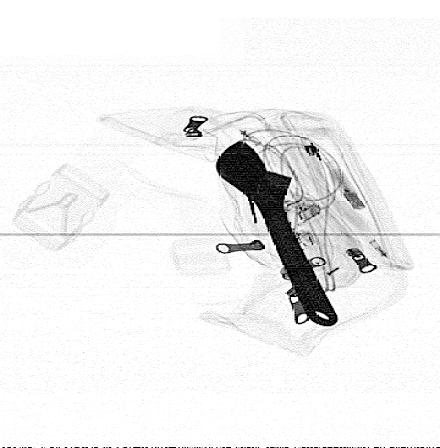Wrench: (216, 141, 339, 327)
